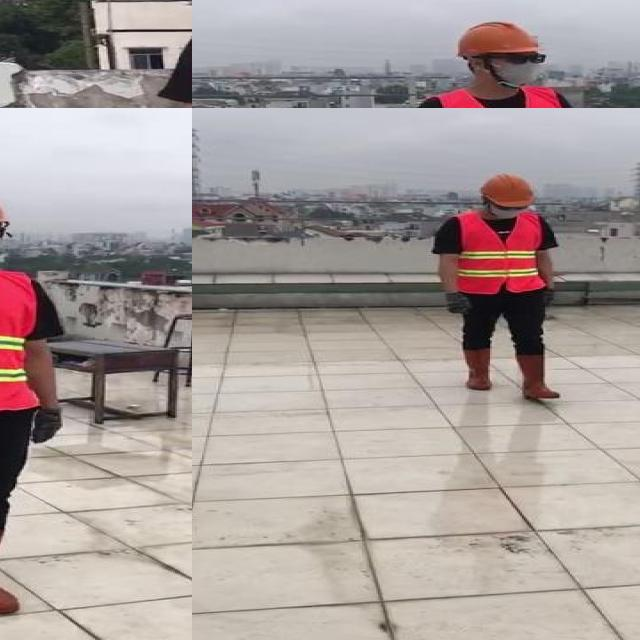boots: (515, 351, 563, 400), (0, 519, 20, 614), (463, 345, 497, 391)
face_mask: (490, 50, 543, 85), (486, 202, 528, 220)
glasses: (500, 48, 550, 67)
hand_glove: (28, 408, 66, 443), (444, 294, 472, 314), (542, 286, 561, 311)
head_helmet: (457, 18, 550, 61), (477, 173, 537, 210)
person: (428, 168, 579, 408), (0, 181, 71, 622), (396, 9, 604, 108), (149, 0, 192, 108)
vest: (453, 212, 543, 292), (0, 270, 38, 412)
